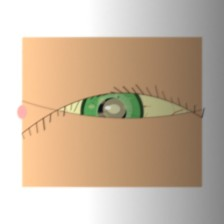corneal_ulcer: (95, 94, 133, 124)
